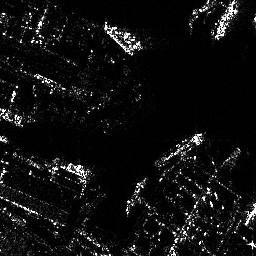ship: (153, 131, 208, 168), (212, 1, 238, 40), (52, 158, 89, 178)
